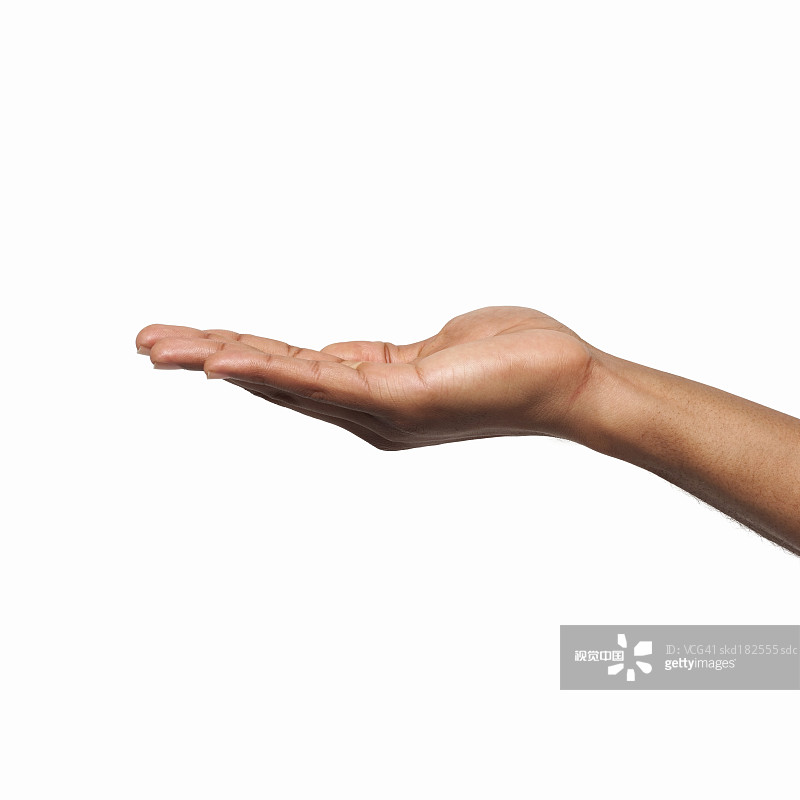no-phone: (108, 265, 623, 489)
